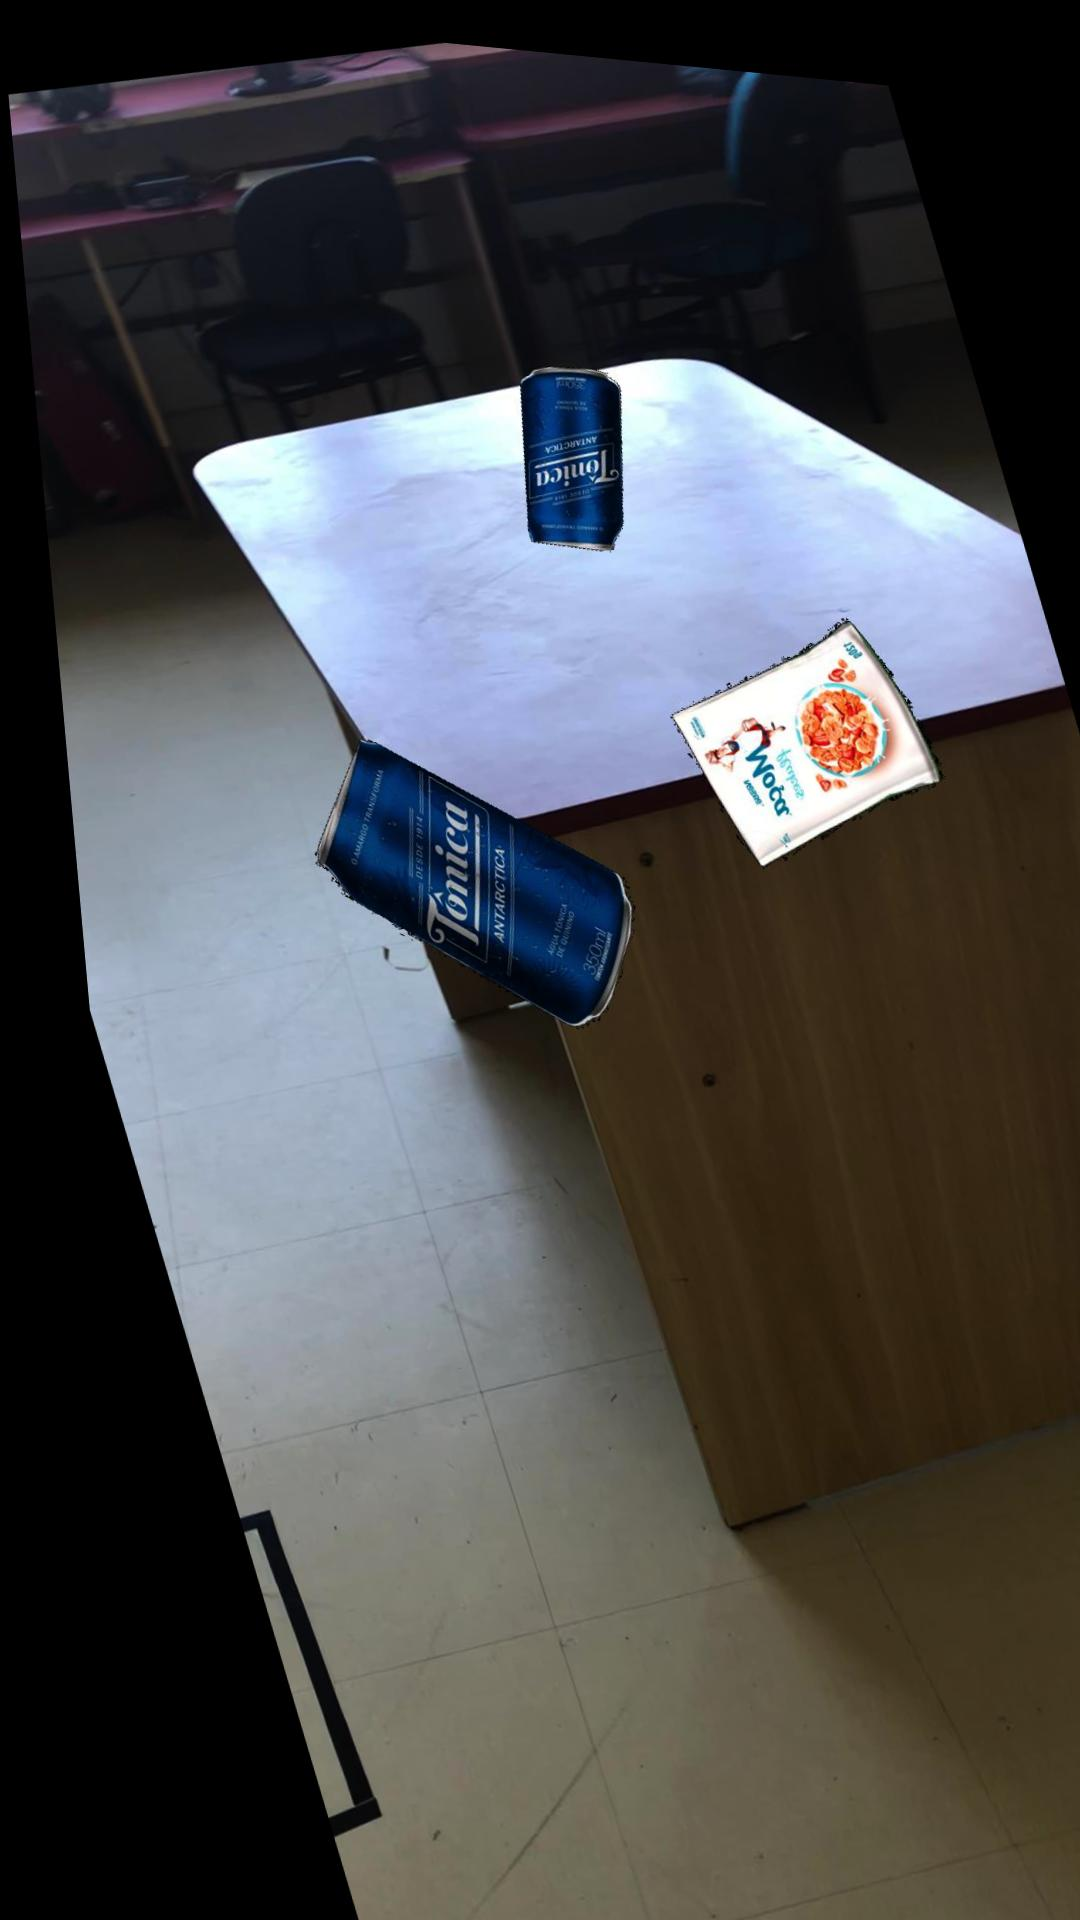corn flakes: (654, 601, 926, 851)
tonic: (298, 731, 615, 1014), (510, 353, 612, 538)
